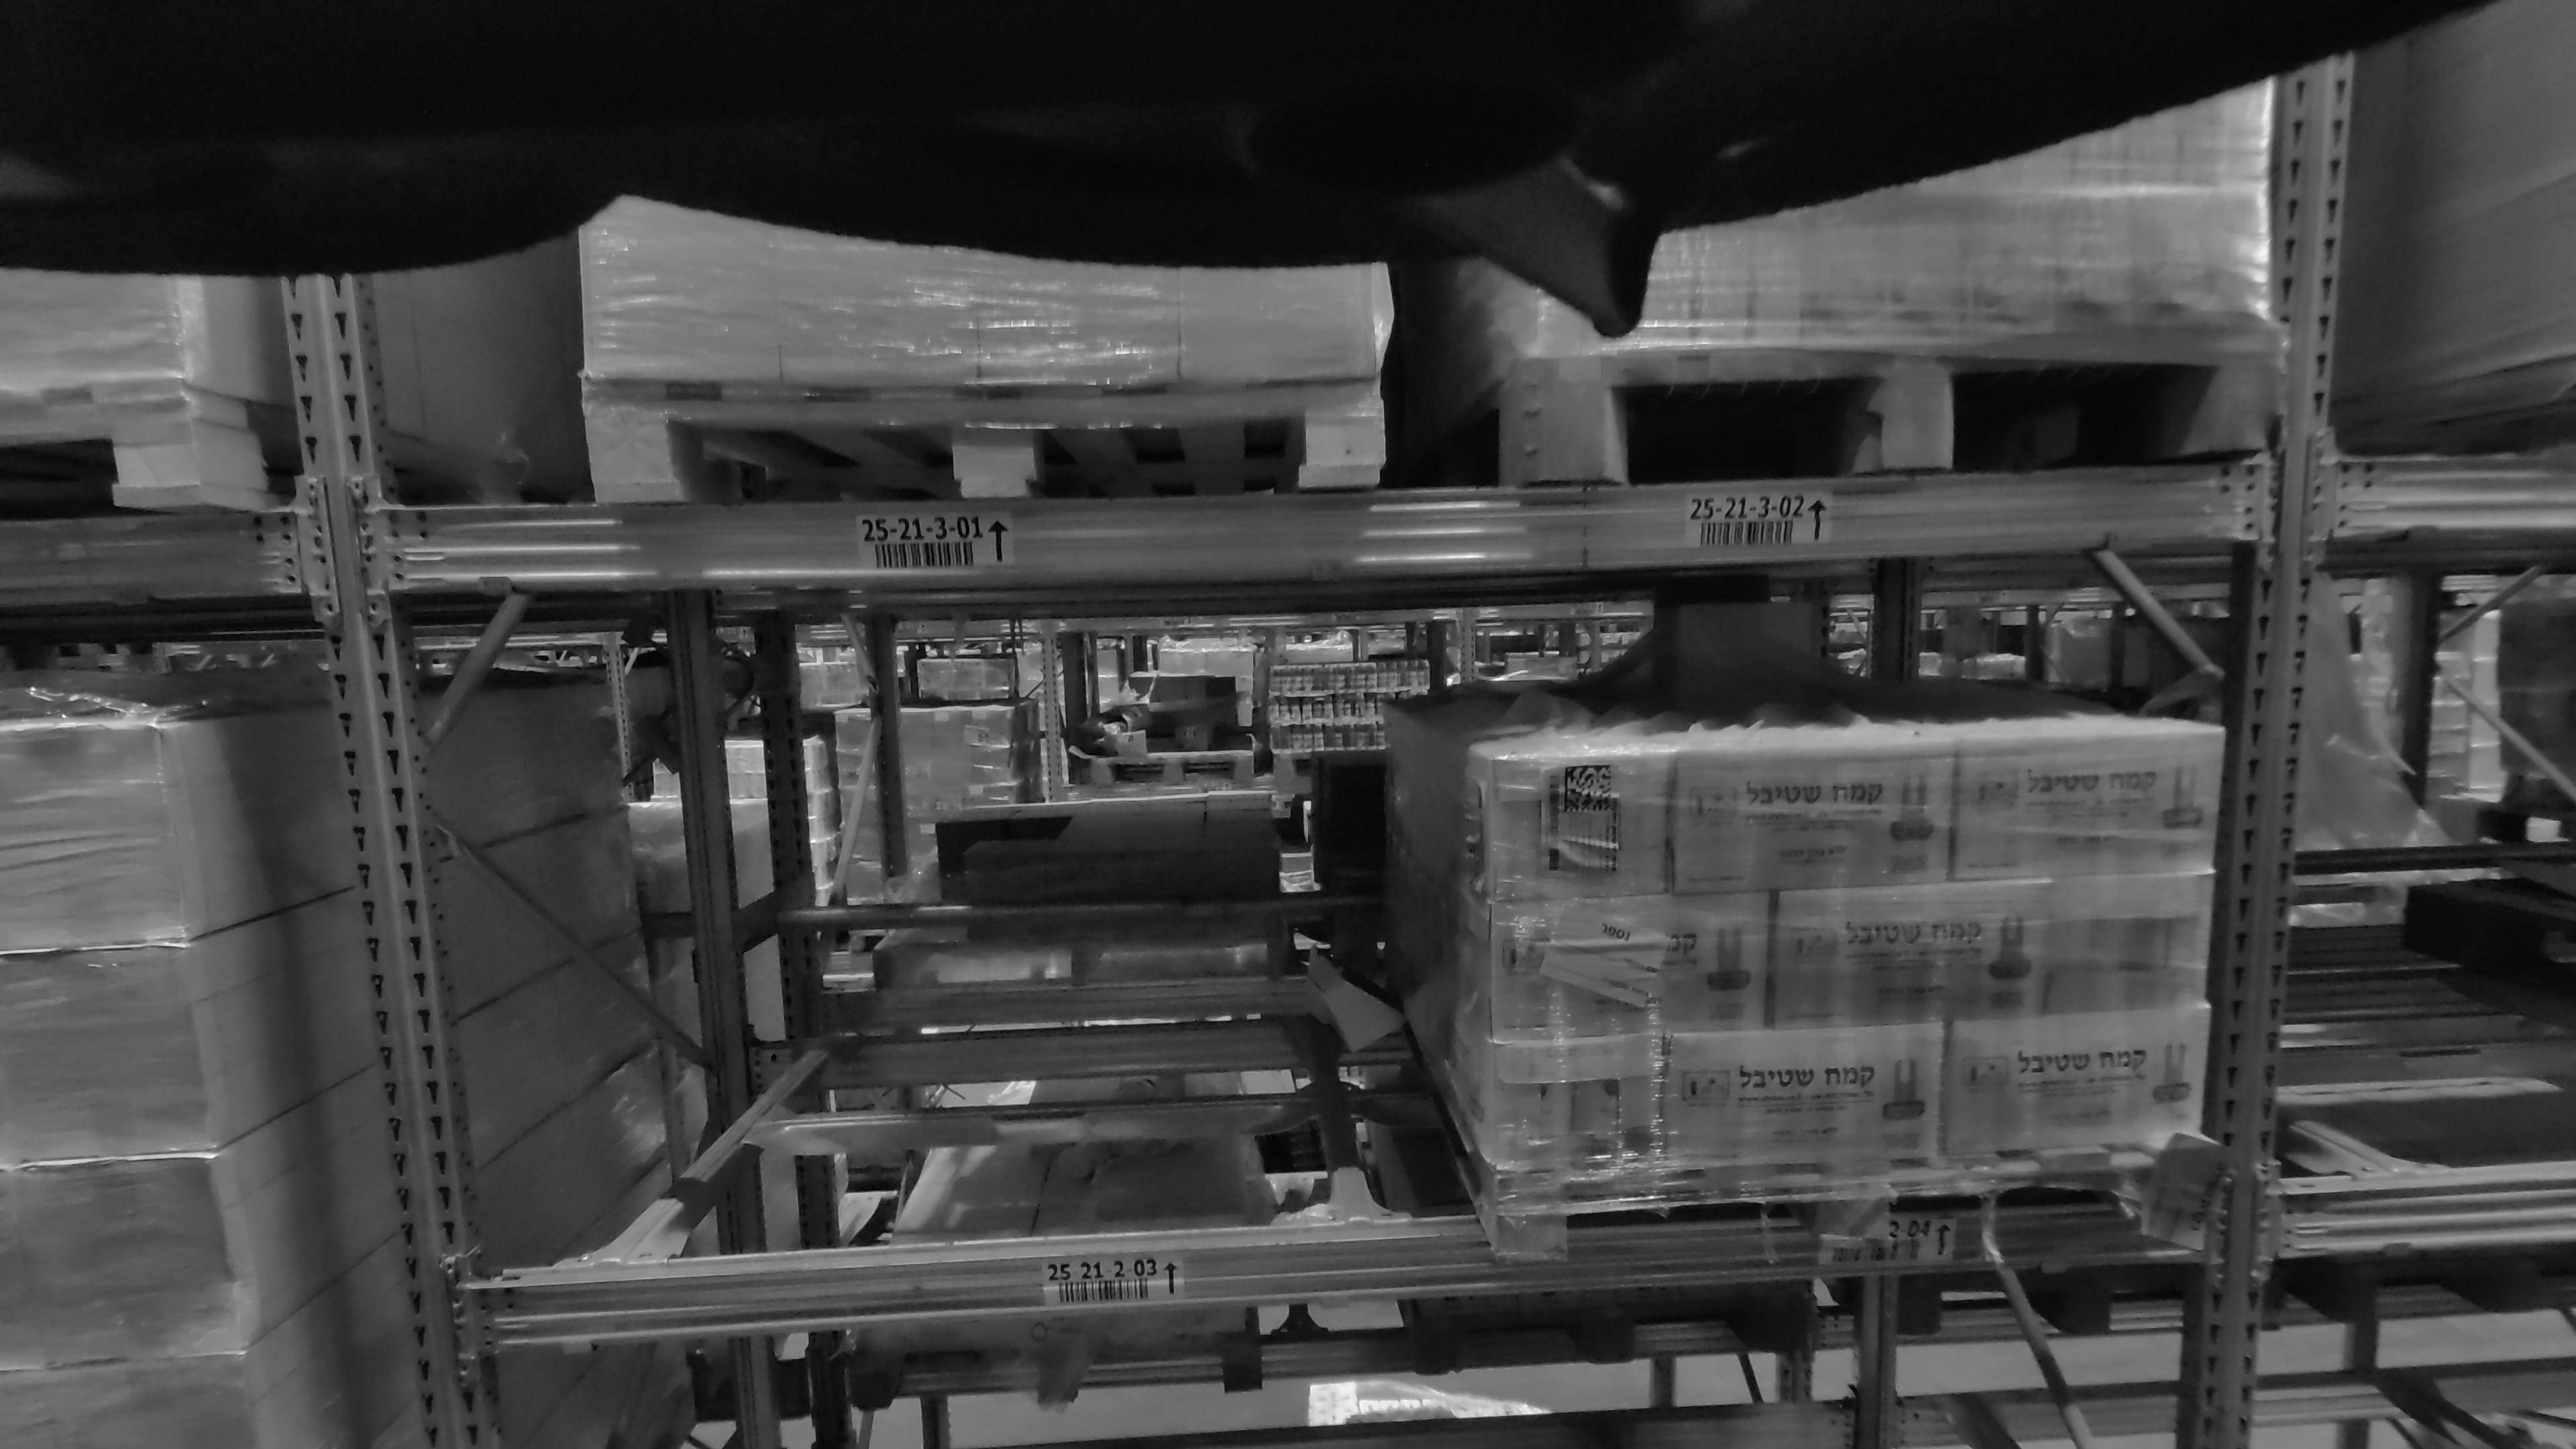empty-shelf: (566, 619, 1371, 1228), (2319, 586, 2569, 1194)
